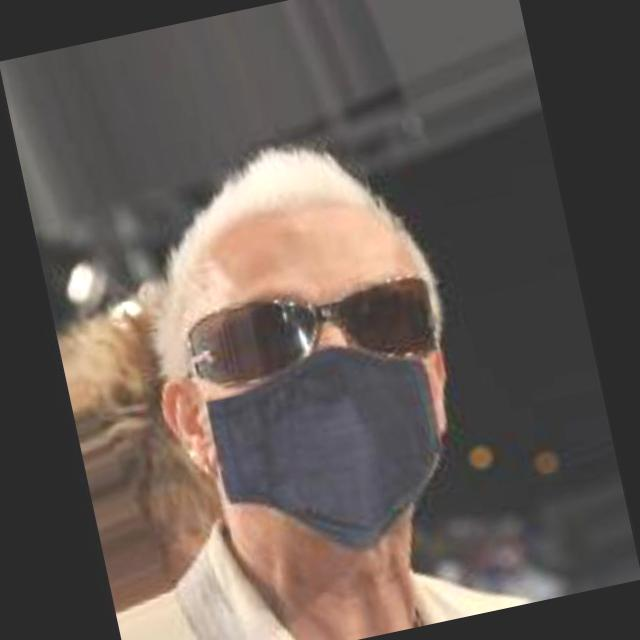suspicion: (84, 111, 522, 574)
